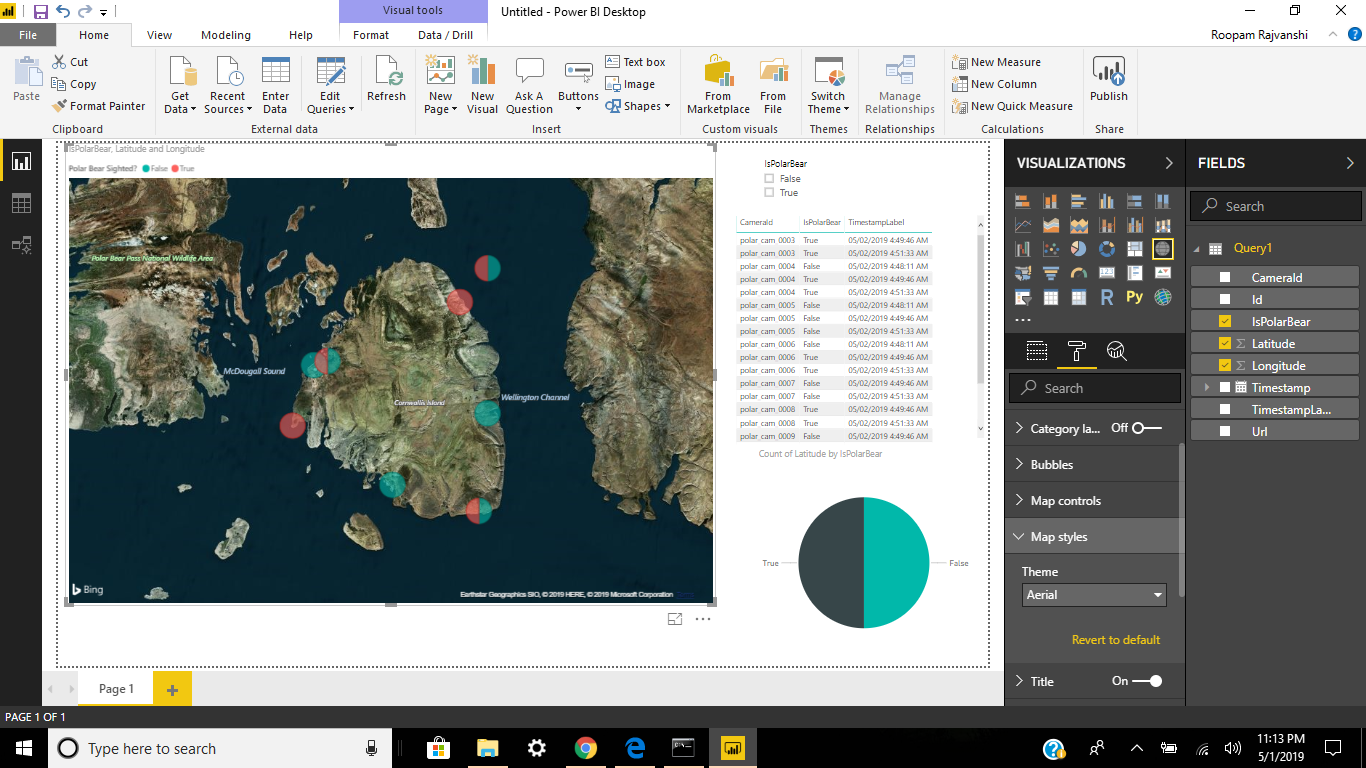

What the dashboard file says about the page in this screenshot:
{"tool":"powerbi","page":{"name":"Polar Bear Activity","canvas":[1280,720],"ordinal":0},"visuals":[{"type":"map","fields":{"X":["Query1.Longitude"],"Y":["Query1.Latitude"],"Series":["Query1.IsPolarBear"]},"box":[9.6,0,896.2,637.4],"z":1},{"type":"tableEx","title":"Camera Activity","fields":{"Values":["Query1.CameraId","Query1.IsPolarBear","Query1.TimestampLabel"]},"box":[927.9,95,352.4,324.9],"z":2},{"type":"pieChart","title":"Proportion of Polar Bear Sightings","fields":{"Category":["Query1.IsPolarBear"],"Y":["CountNonNull(Query1.Latitude)"]},"box":[959.5,419.9,300.1,300.1],"z":3},{"type":"slicer","title":"Show Sightings that are:","fields":{"Values":["Query1.IsPolarBear"]},"box":[959.5,15.1,168,79.8],"z":4}]}

Visuals, with their boxes on the page's 1280x720 design canvas (x1, y1, x2, y2). These are canvas units, not pixel positions in the 1366x768 screenshot, which may show the page scaled, cropped or inside an application window:
map - Query1.Longitude x Query1.Latitude: rect(10, 0, 906, 637)
"Camera Activity" tableEx: rect(928, 95, 1280, 420)
"Proportion of Polar Bear Sightings" pieChart: rect(960, 420, 1260, 720)
"Show Sightings that are:" slicer: rect(960, 15, 1128, 95)
